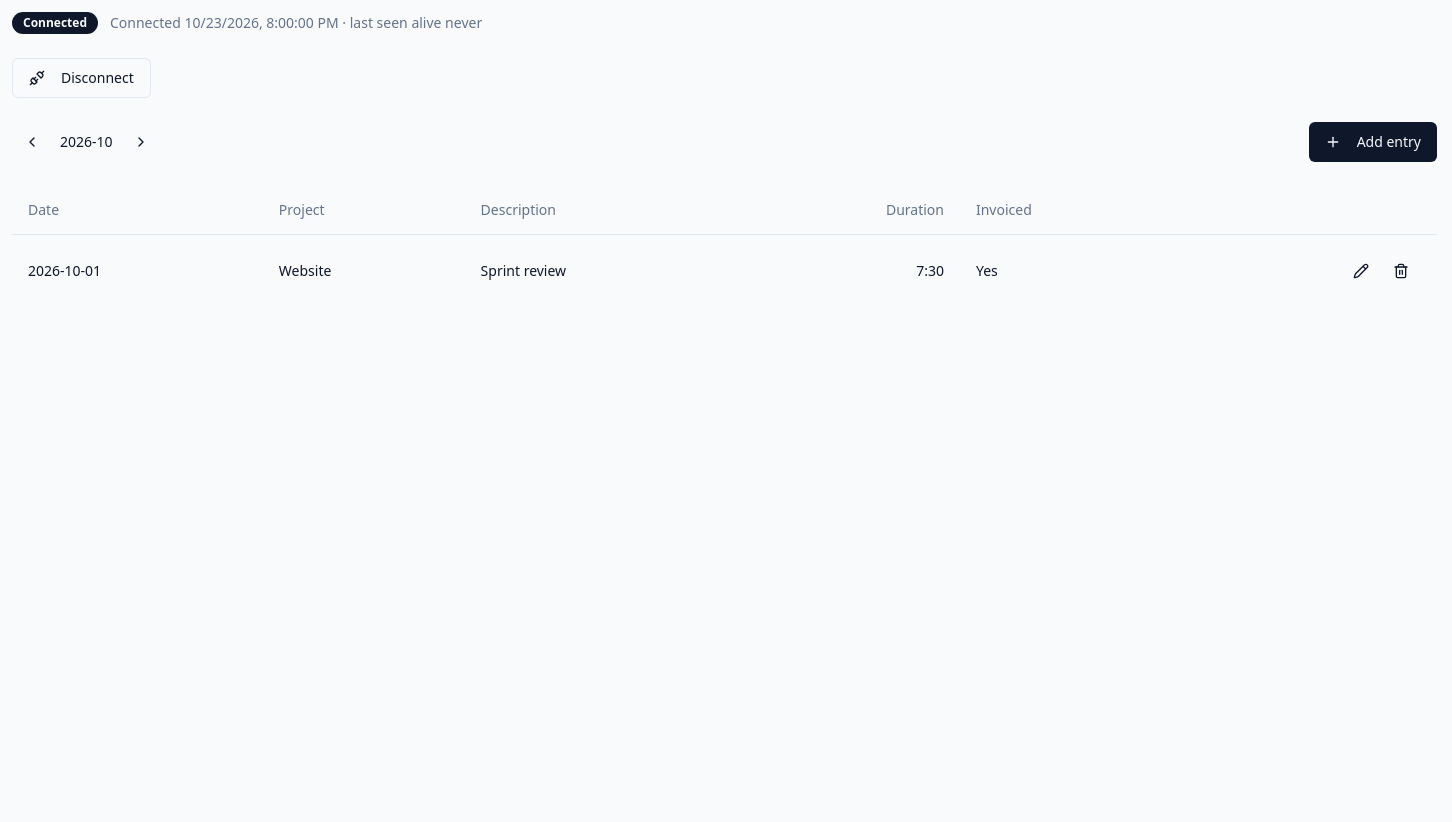
it: MyZenPanel › when connected › shows MyZen's reason when it refuses a change
Step 1. Click the button named "Edit entry of 2026-10-01" → (1361, 270), box [1341,250,1381,290]
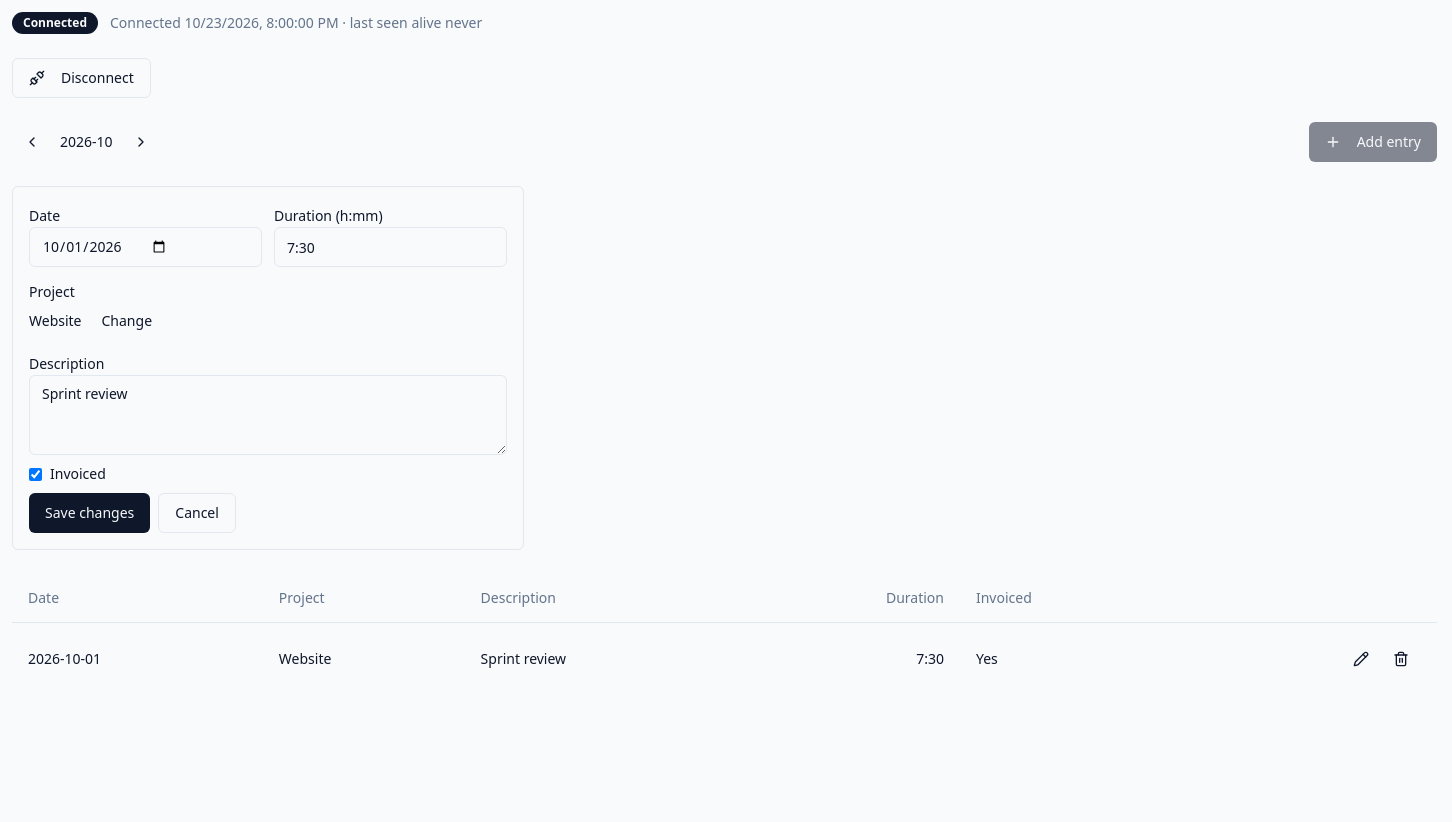
Step 2. Click the button "Save changes" → (90, 513), box [29,493,150,533]
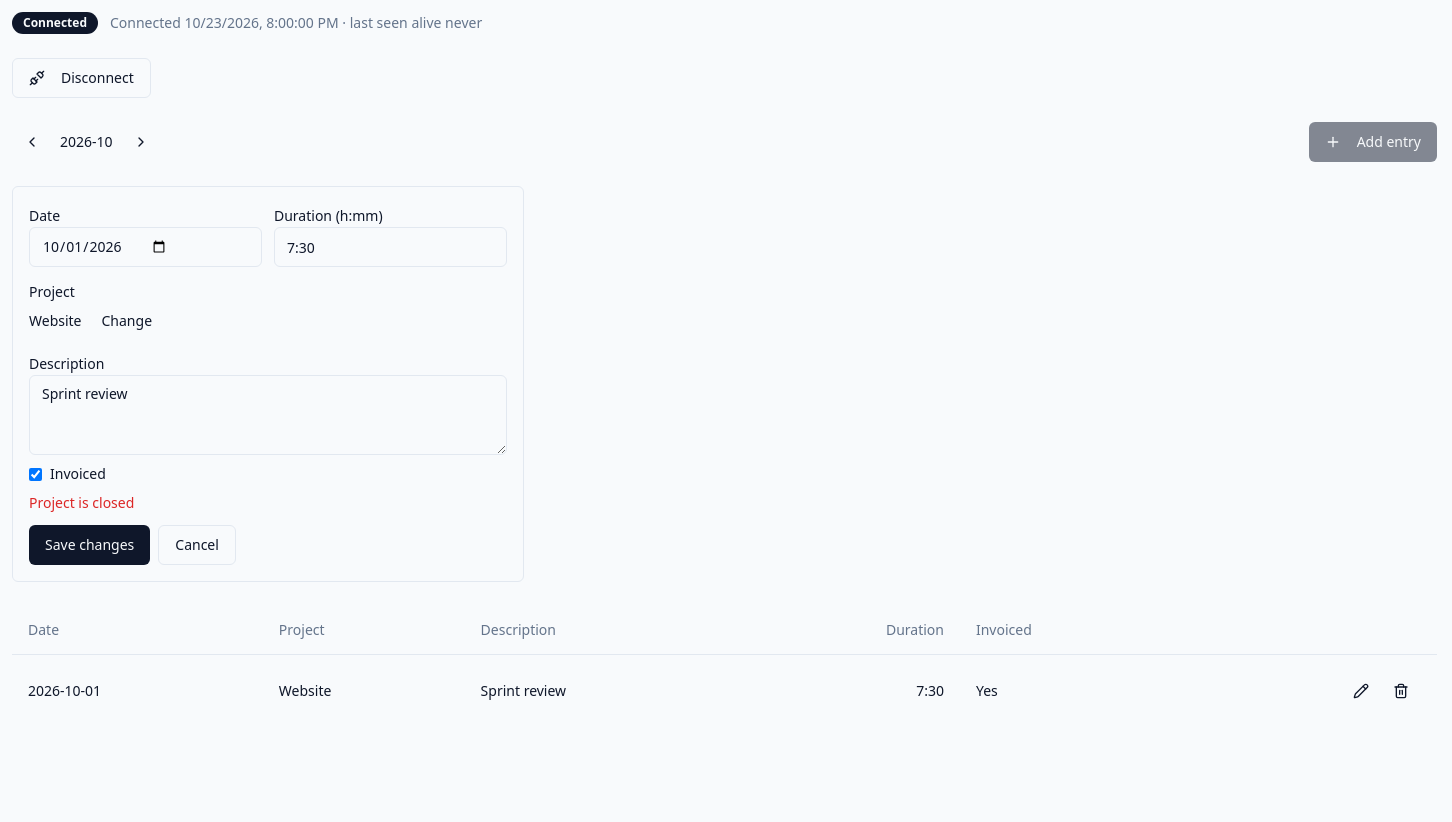
Now the text "Project is closed" is shown, box [29,493,134,512]
